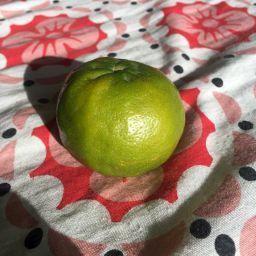orange: (55, 56, 187, 179)
